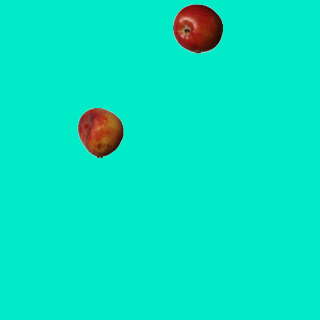Apple Braeburn: (172, 3, 222, 53)
Peach: (75, 107, 125, 157)
